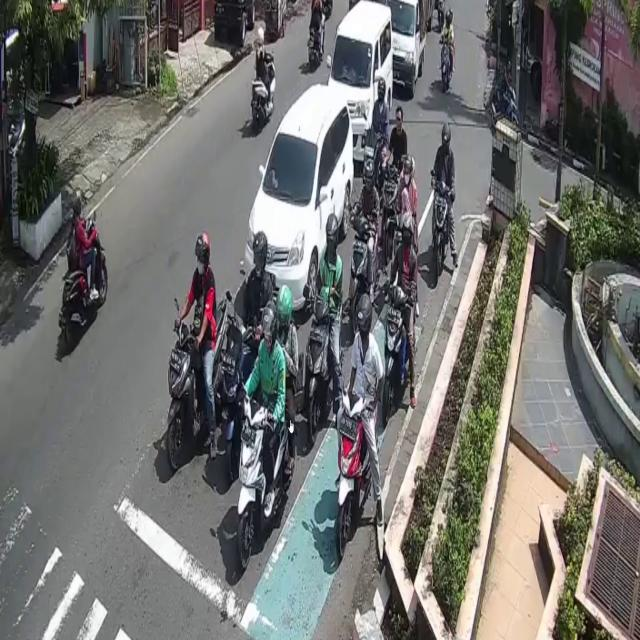bus: (163, 297, 234, 474), (237, 396, 290, 568), (60, 218, 107, 346), (337, 387, 372, 555), (305, 298, 333, 447), (383, 290, 412, 429), (352, 213, 377, 304), (252, 50, 276, 134), (434, 184, 453, 276), (491, 89, 520, 136), (438, 35, 453, 95)
motorcycle: (243, 81, 354, 319), (329, 0, 394, 162), (388, 0, 427, 94)
